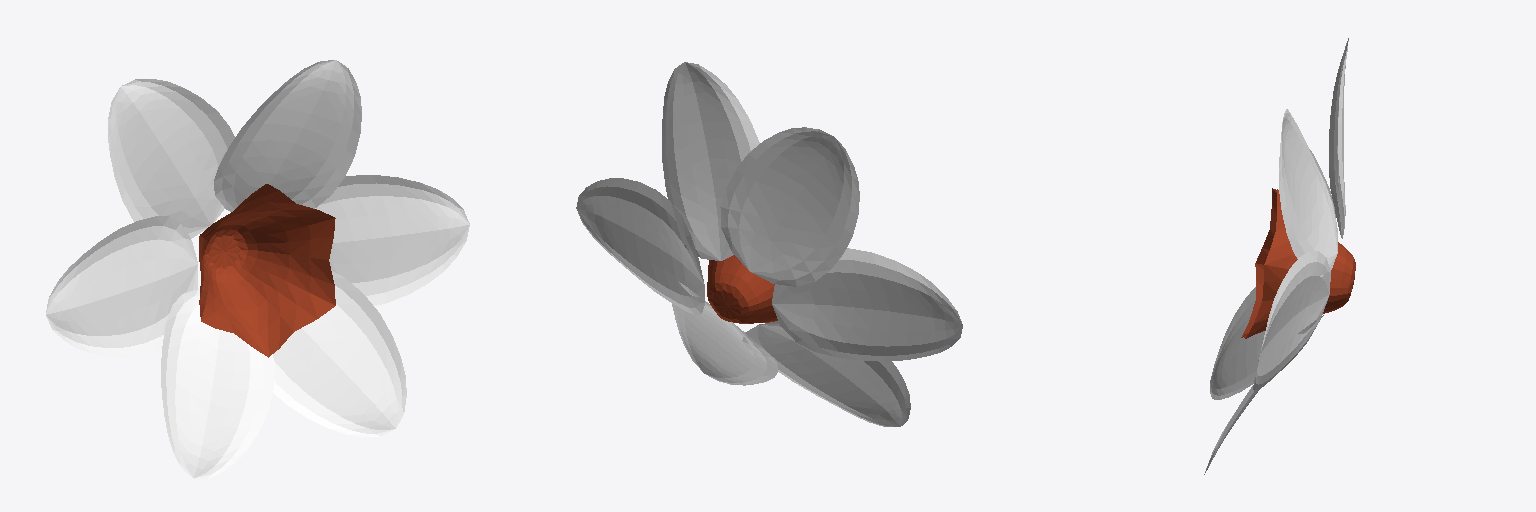
3 renders of one model, left to right at view 1: azimuth 30°, elevation 25°; view 2: azimuth 150°, elevation 25°; view 3: azimuth 270°, elevation 25°, orthographic.
Parts seen in each view (by area): view 1: Plane.002; view 2: Plane.002; view 3: Plane.002.
Boxes of the visible parts, <box> form: Plane.002: <box>46,60,469,478</box>; Plane.002: <box>576,62,962,426</box>; Plane.002: <box>1204,38,1355,474</box>.
Bounding box in the file's own units: 6.2 × 5.17 × 2.01.
1 materials, 1 textured.